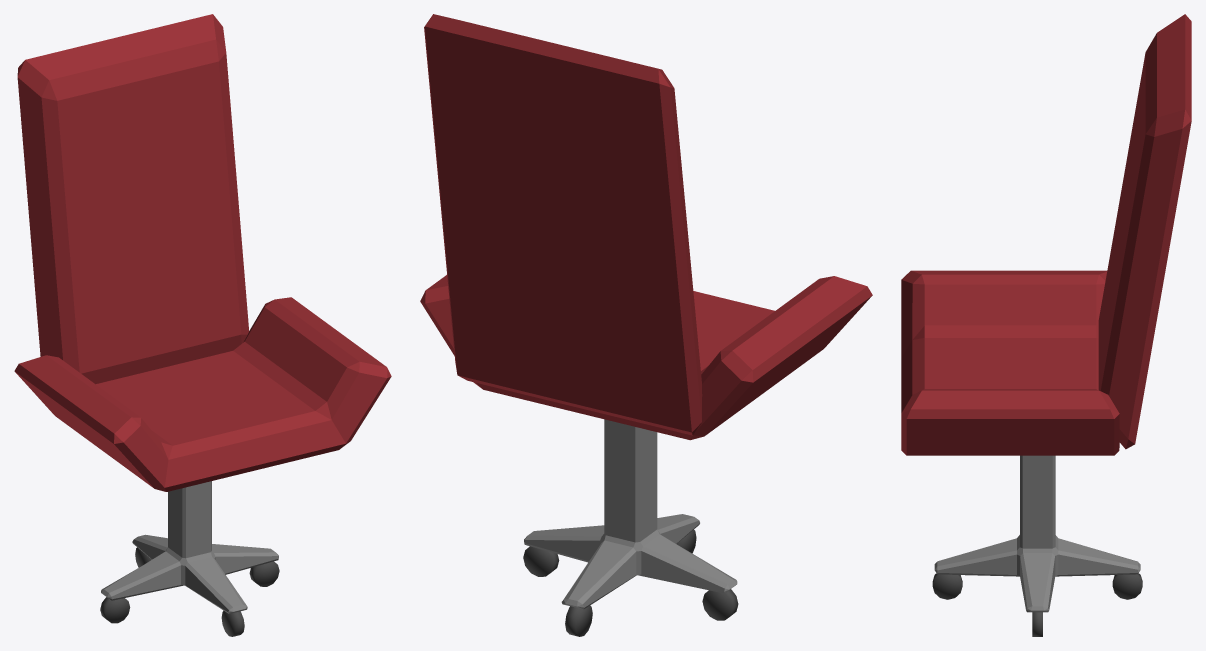
The model's file is Cadeira Presidencial.fbx.
3 views of the same model, side by side, from view 1: azimuth 30°, elevation 25°; view 2: azimuth 150°, elevation 25°; view 3: azimuth 270°, elevation 25° (orthographic). The views are drawn at different scales.
Parts seen in each view (by area): view 1: Estofado.001, Estofado.002, Plane, Rodinhas, Rodinhas.001; view 2: Estofado.001, Estofado.002, Plane, Rodinhas, Rodinhas.001; view 3: Estofado.002, Estofado.001, Plane, Rodinhas.001.
Boxes of the visible parts, bbox=[...] form: Estofado.001: bbox=[17, 14, 249, 384]; Estofado.002: bbox=[14, 297, 391, 491]; Plane: bbox=[101, 481, 278, 613]; Rodinhas: bbox=[100, 561, 279, 623]; Rodinhas.001: bbox=[135, 547, 244, 636]; Estofado.001: bbox=[424, 14, 702, 435]; Estofado.002: bbox=[420, 275, 872, 440]; Plane: bbox=[524, 419, 737, 609]; Rodinhas: bbox=[523, 546, 738, 620]; Rodinhas.001: bbox=[565, 530, 696, 636]; Estofado.002: bbox=[901, 270, 1119, 455]; Estofado.001: bbox=[1098, 14, 1191, 449]; Plane: bbox=[934, 455, 1140, 612]; Rodinhas.001: bbox=[932, 573, 1142, 599].
Size of the model in its own units: 75.77 by 134 by 65.9.
